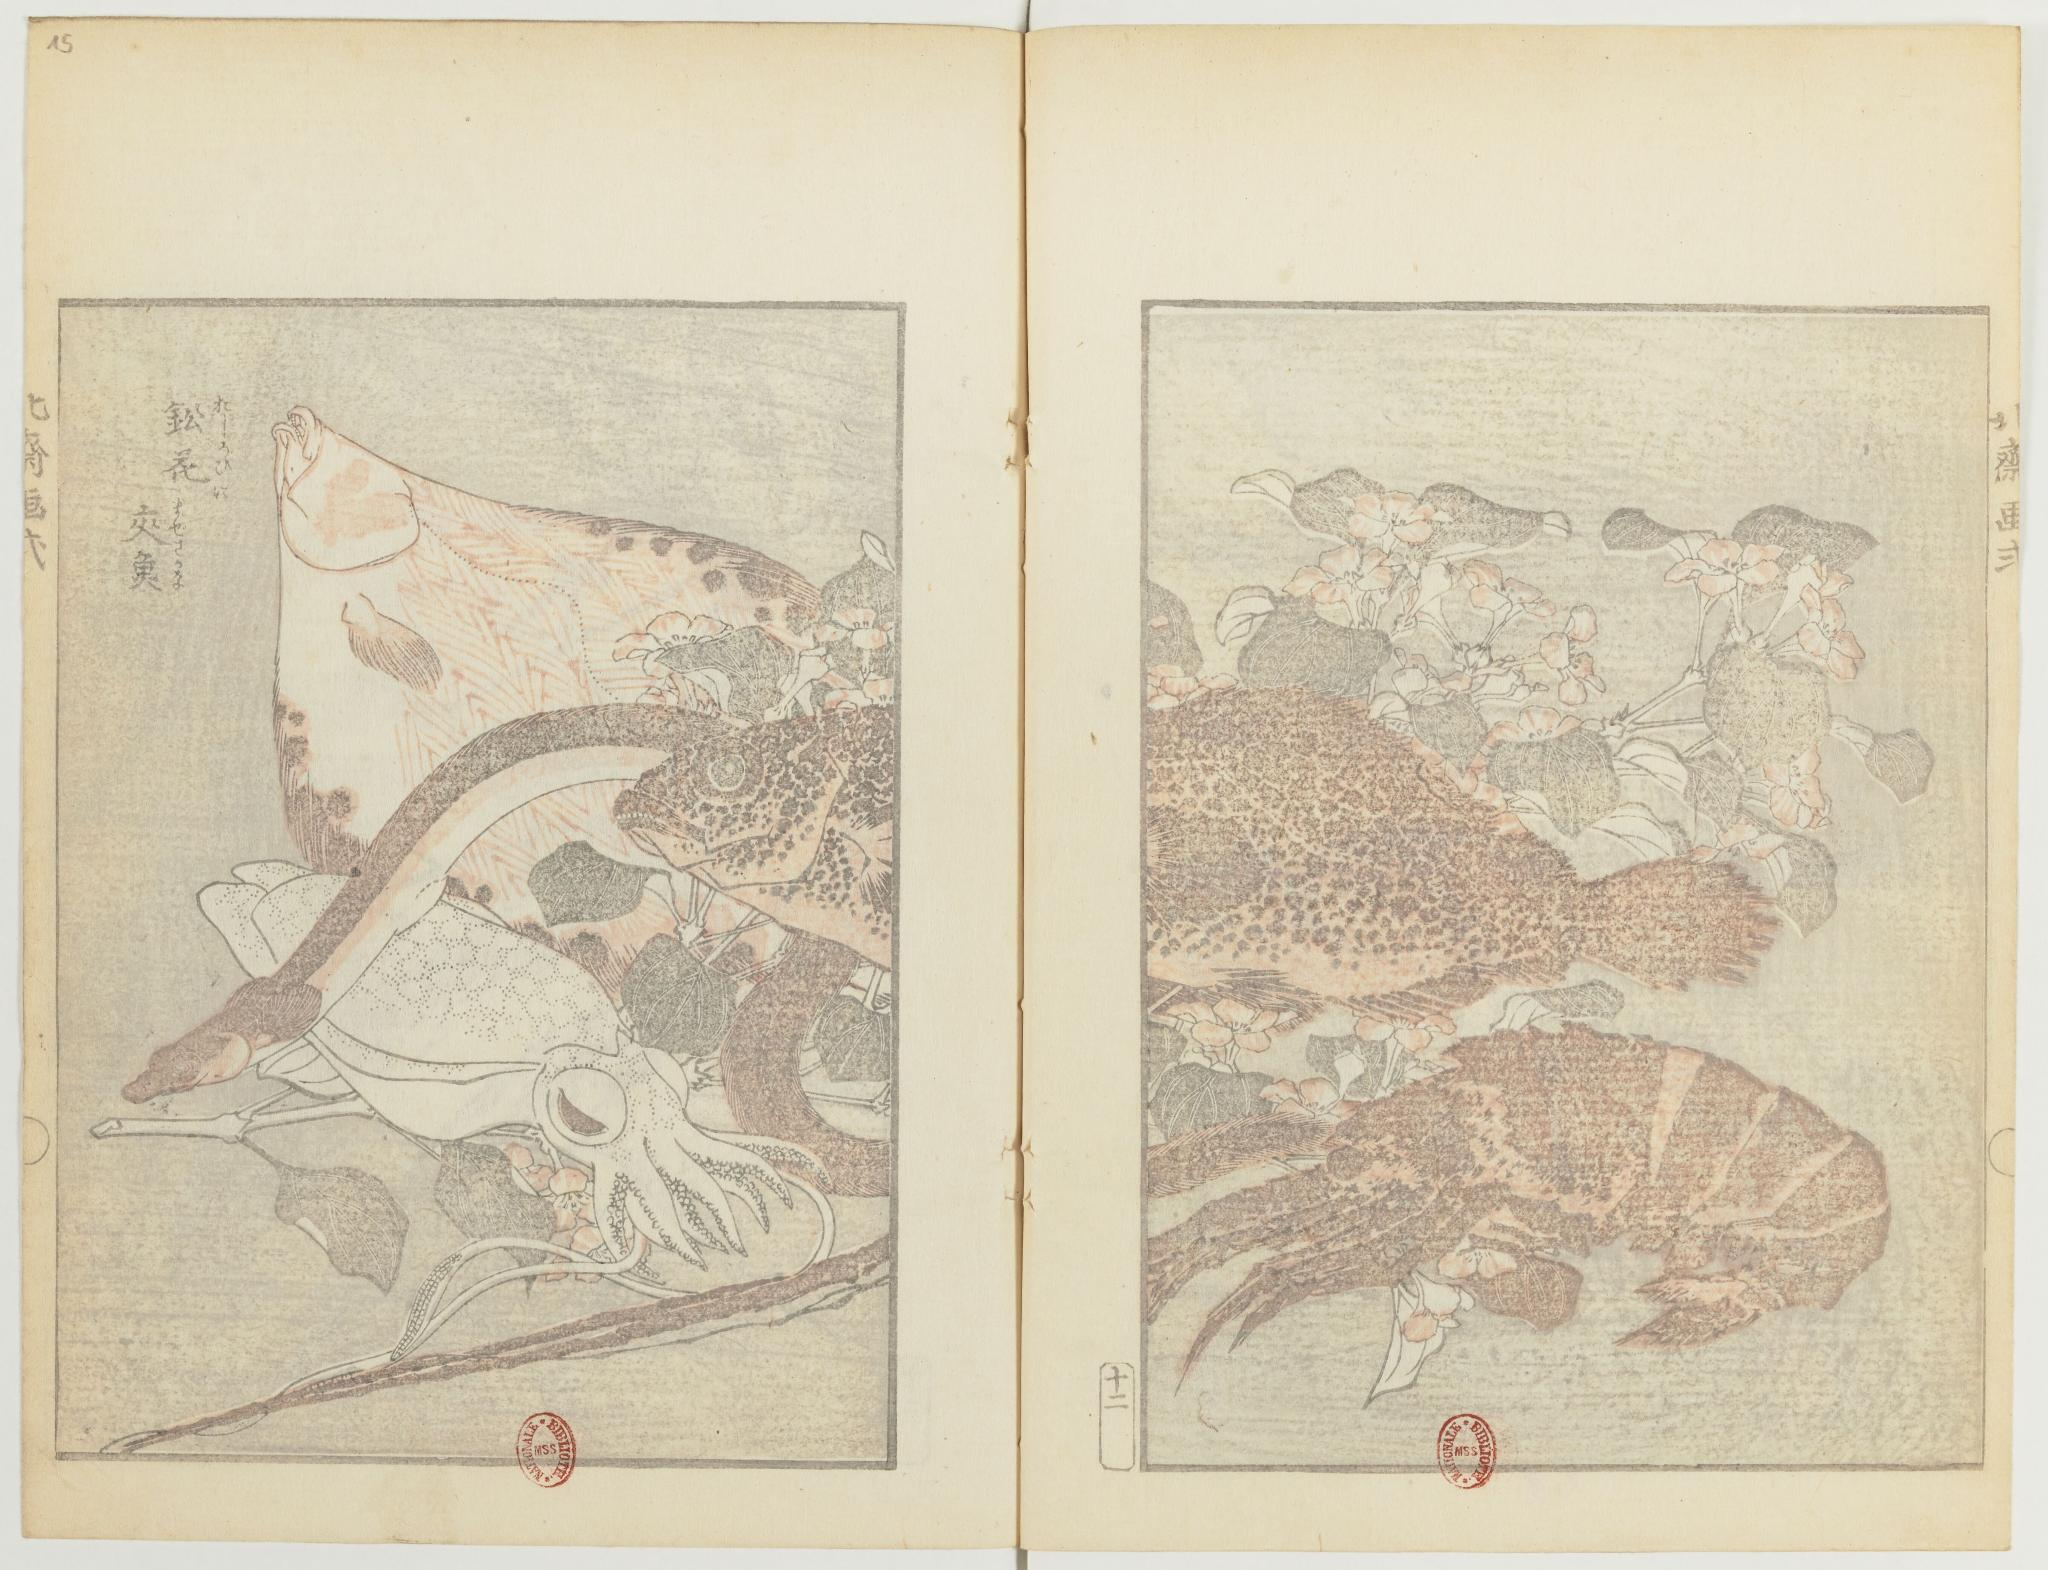MainZone-Character: (158, 444, 241, 500), (124, 500, 188, 551), (160, 394, 236, 435), (119, 554, 188, 597)
MainZone-Ruby: (209, 445, 234, 498), (165, 503, 186, 549), (211, 396, 231, 434), (168, 554, 185, 594)
